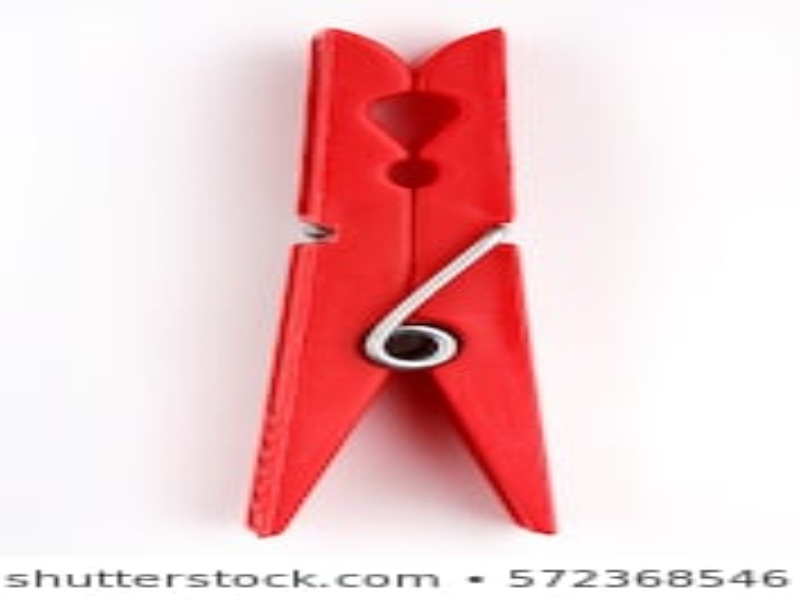plastic-peg: (245, 25, 558, 538)
